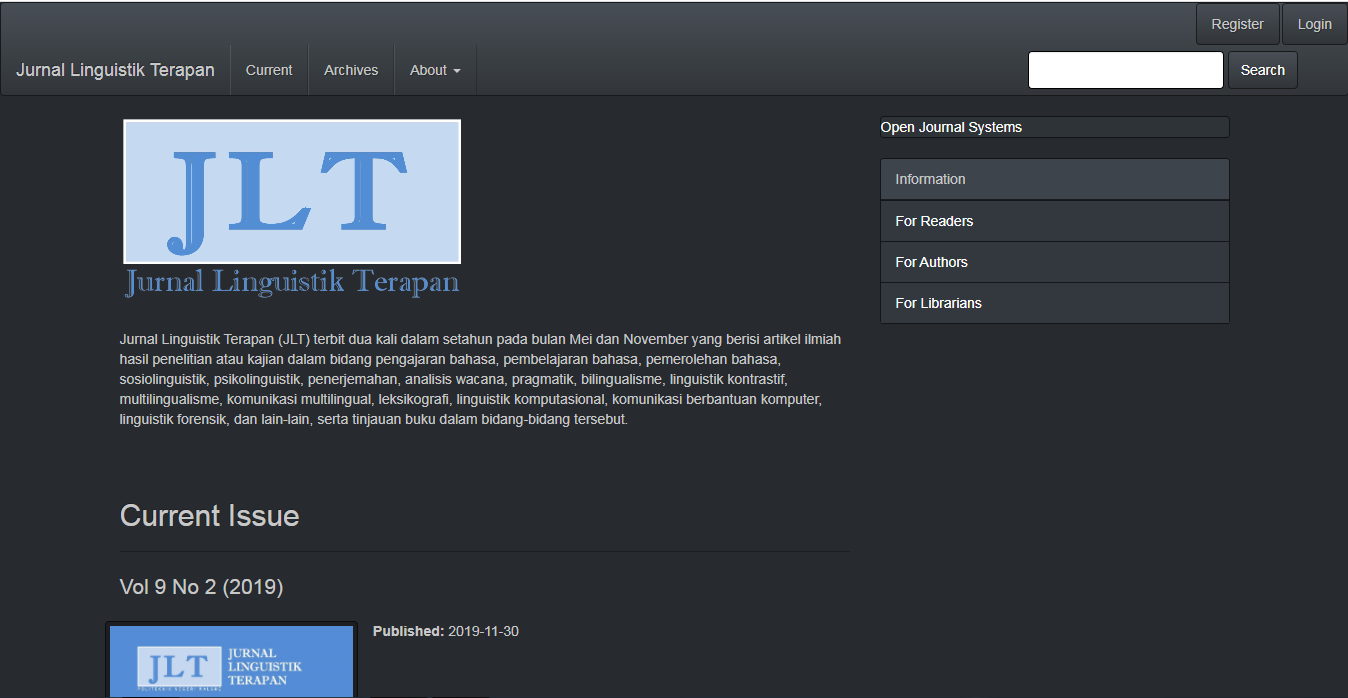Button: (1191, 1, 1284, 43), (1229, 47, 1300, 87), (1286, 0, 1342, 43)
Image: (115, 116, 463, 264), (105, 619, 352, 698)
Menu Bar: (229, 45, 475, 93)
Nav Bar: (889, 247, 972, 276), (890, 168, 983, 192), (892, 293, 996, 314), (893, 208, 976, 231)
Side Bar: (875, 89, 1245, 347)
Text Field: (1024, 43, 1223, 91)
